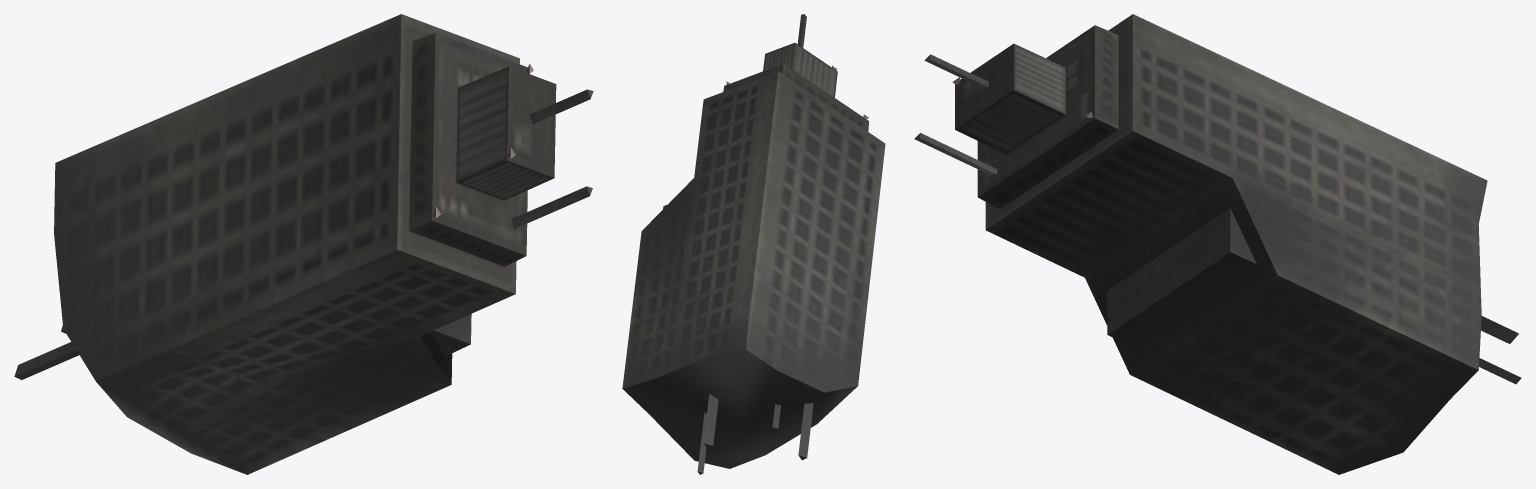
The model's file is skyBuildingAAB_pos_grp (5).fbx.
3 views of the same model, side by side, from view 1: azimuth 30°, elevation 25°; view 2: azimuth 150°, elevation 25°; view 3: azimuth 270°, elevation 25° (orthographic). The views are drawn at different scales.
Visible parts, largest first — view 1: skyBuildingAAB_geo; view 2: skyBuildingAAB_geo; view 3: skyBuildingAAB_geo.
Part boxes in pixels (bbox=[...]): skyBuildingAAB_geo: bbox=[14, 14, 593, 474]; skyBuildingAAB_geo: bbox=[622, 14, 885, 474]; skyBuildingAAB_geo: bbox=[914, 14, 1521, 474].
Size of the model in its own units: 4.98 by 7.26 by 8.36.
